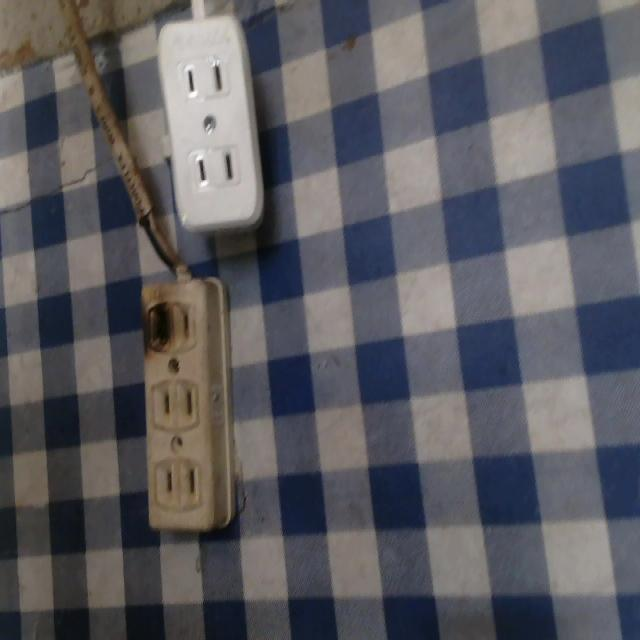-: (137, 296, 181, 360)
